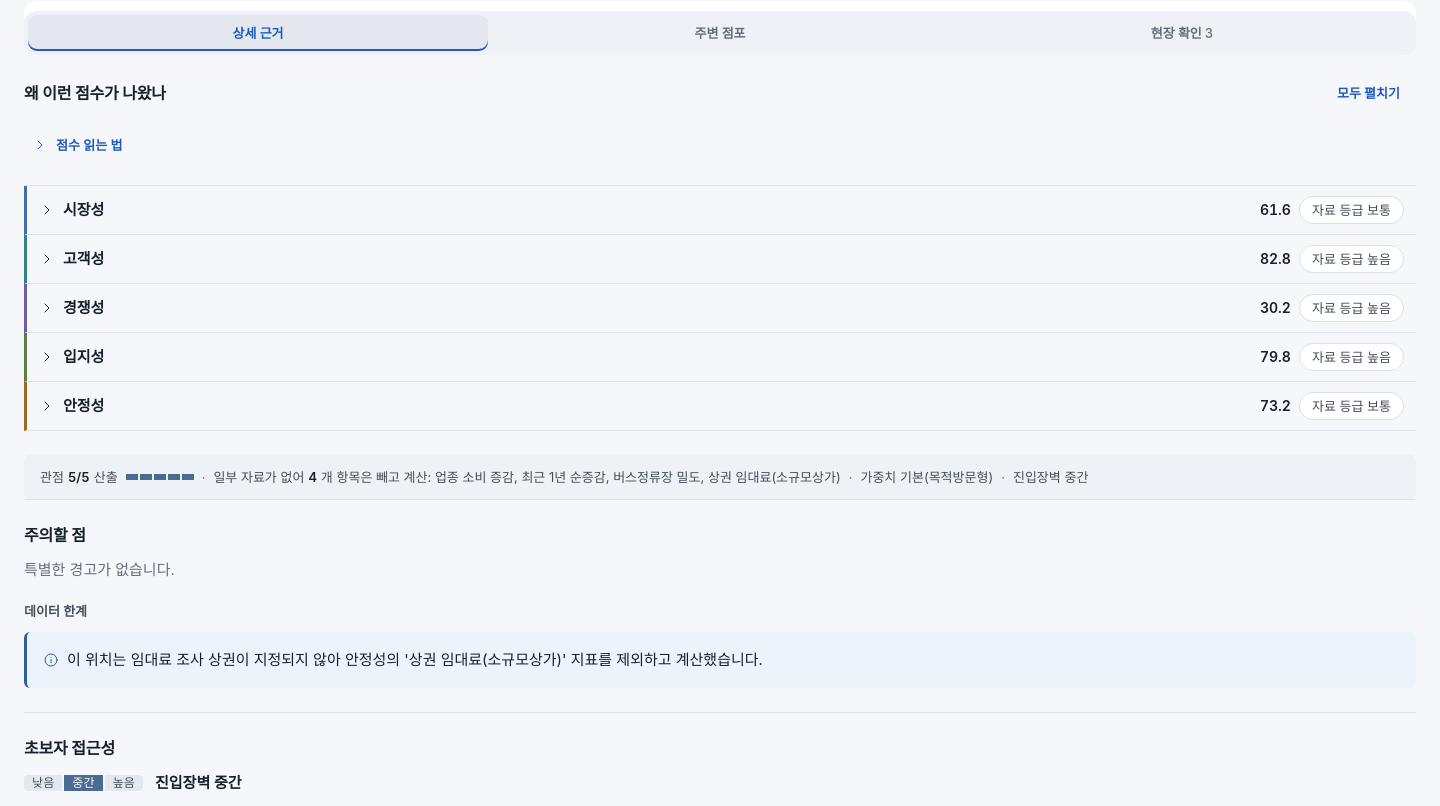
Test case: AnalysisResult — 실제 /analyze 응답(부평역 · PC방) › 고정 기준선 55.2%는 근거 줄의 "인천 업종평균"이 아니라 상세 근거 계산 기준에 출처·한계와 함께 보인다 (12-16)
(page scrolled)
Click the button with id "detail-toggle-stability": coordinates (84, 405) [27, 382, 1416, 430]
(page scrolled)
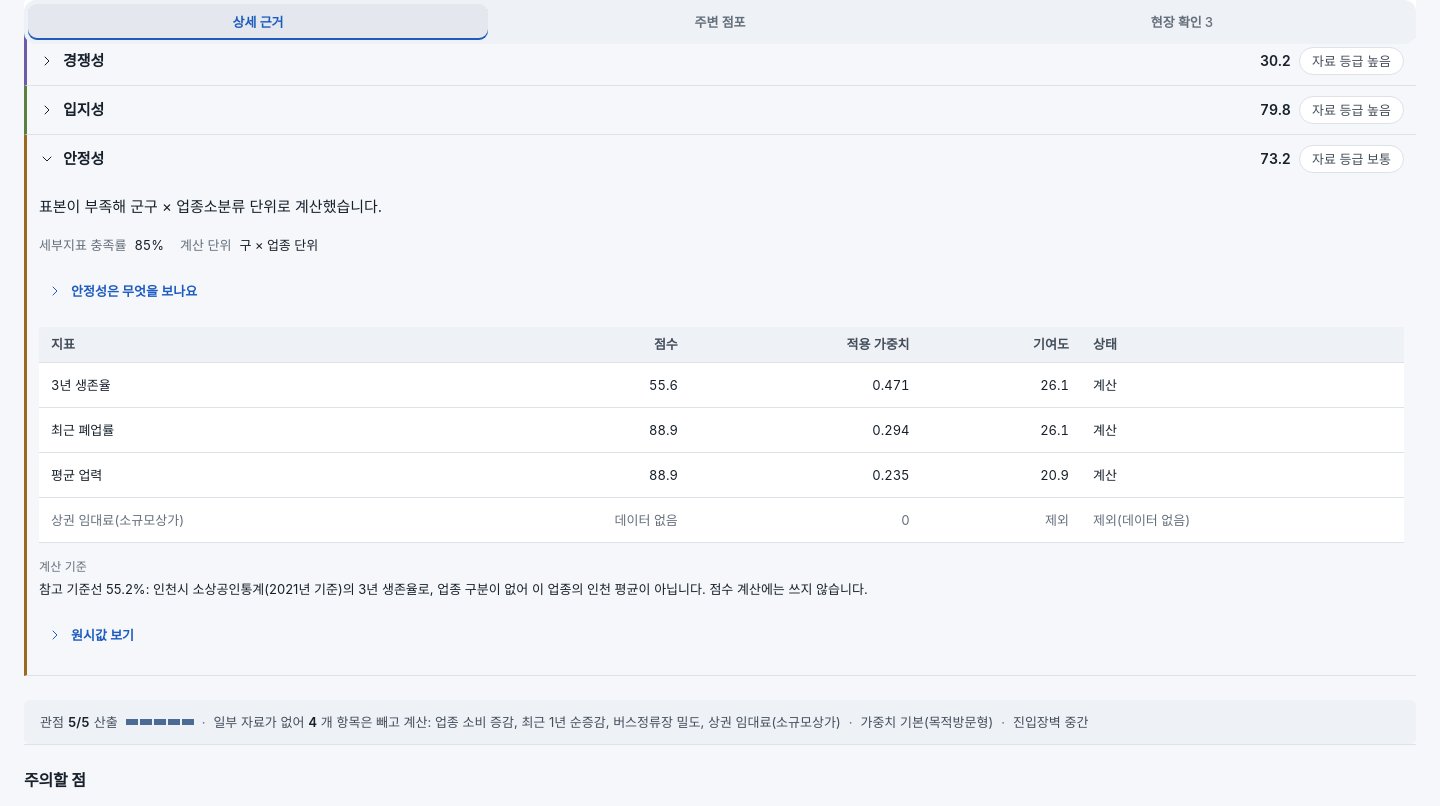
Check: the element with id "detail-toggle-stability" shows "참고 기준선 55.2%", box [39, 582, 868, 598]
Check: the element with id "detail-toggle-stability" shows "업종 구분이 없어 이 업종의 인천 평균이 아닙니다", box [39, 582, 868, 598]
Check: the element with id "detail-toggle-stability" shows "점수 계산에는 쓰지 않습니다", box [39, 582, 868, 598]
